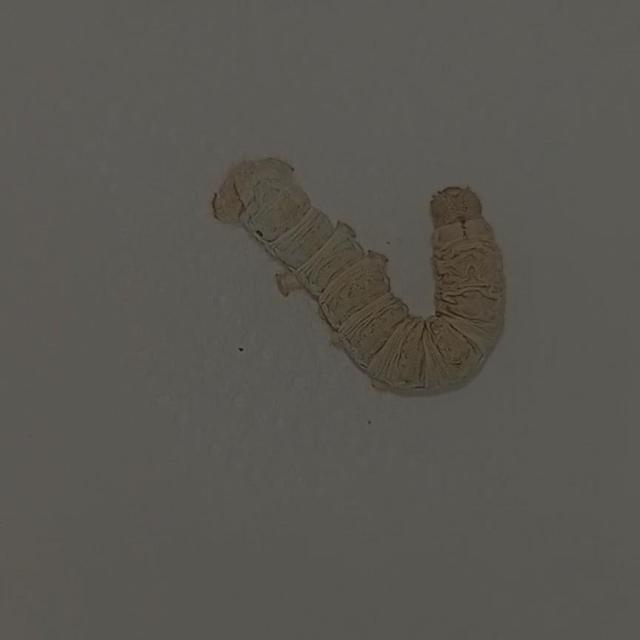Healthy: (175, 98, 529, 407)
